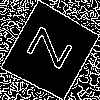Z: (25, 26, 83, 75)
